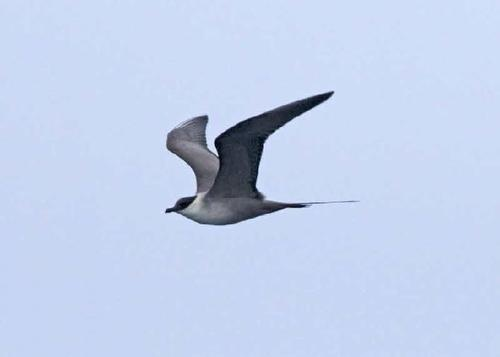bird: (160, 90, 338, 224)
